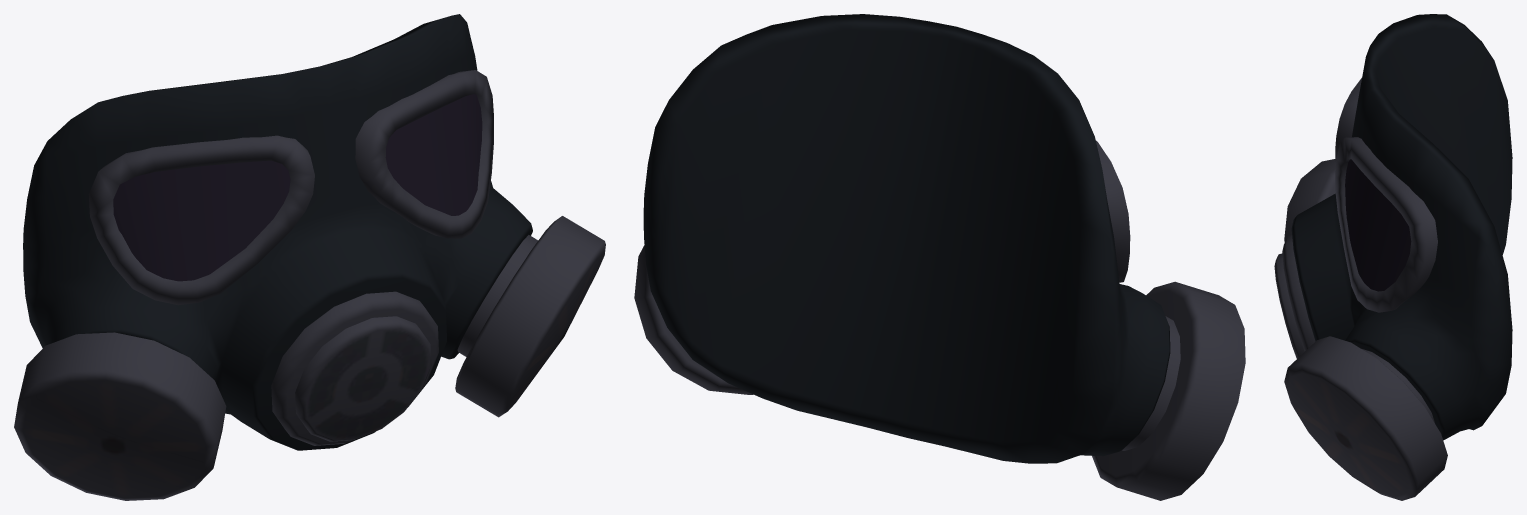
File: AccessoryGlassmouthGasmask0.glb
The picture shows the model from 3 angles, left to right: view 1: azimuth 30°, elevation 25°; view 2: azimuth 150°, elevation 25°; view 3: azimuth 270°, elevation 25°; orthographic projection. The views are drawn at different scales.
Visible parts, largest first — view 1: Accessory__mAccessory; view 2: Accessory__mAccessory; view 3: Accessory__mAccessory.
Part boxes in pixels (<box>): Accessory__mAccessory: <box>14,14,605,500</box>; Accessory__mAccessory: <box>634,14,1245,500</box>; Accessory__mAccessory: <box>1274,14,1512,500</box>.
Size of the model in its own units: 7.51 by 4.9 by 3.06.
1 material, 1 textured.
